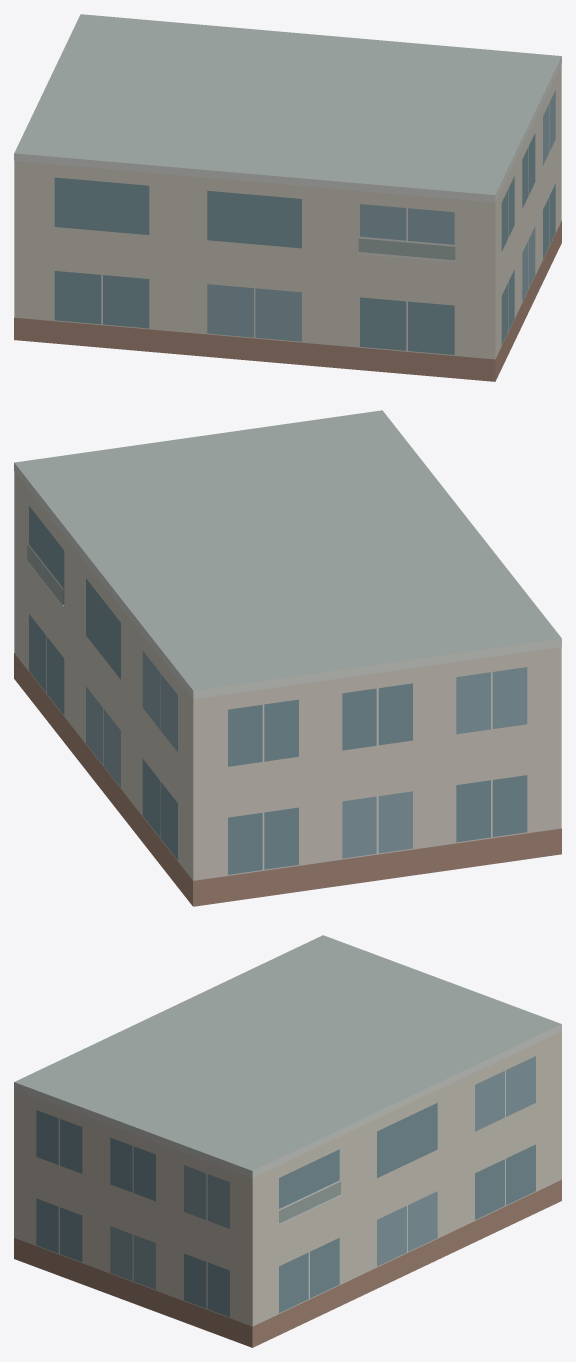
File: survey-upis-32709090.glb
3 views of the same model, one above another, from view 1: azimuth 30°, elevation 25°; view 2: azimuth 150°, elevation 25°; view 3: azimuth 270°, elevation 25° (orthographic). The views are drawn at different scales.
Visible parts, largest first — view 1: survey-upis-32709090.tmp; view 2: survey-upis-32709090.tmp; view 3: survey-upis-32709090.tmp.
Boxes of the visible parts, <box> form: survey-upis-32709090.tmp: <box>14,14,561,381</box>; survey-upis-32709090.tmp: <box>14,410,561,906</box>; survey-upis-32709090.tmp: <box>14,935,561,1347</box>.
Size of the model in its own units: 17.46 by 6.1 by 17.13.
